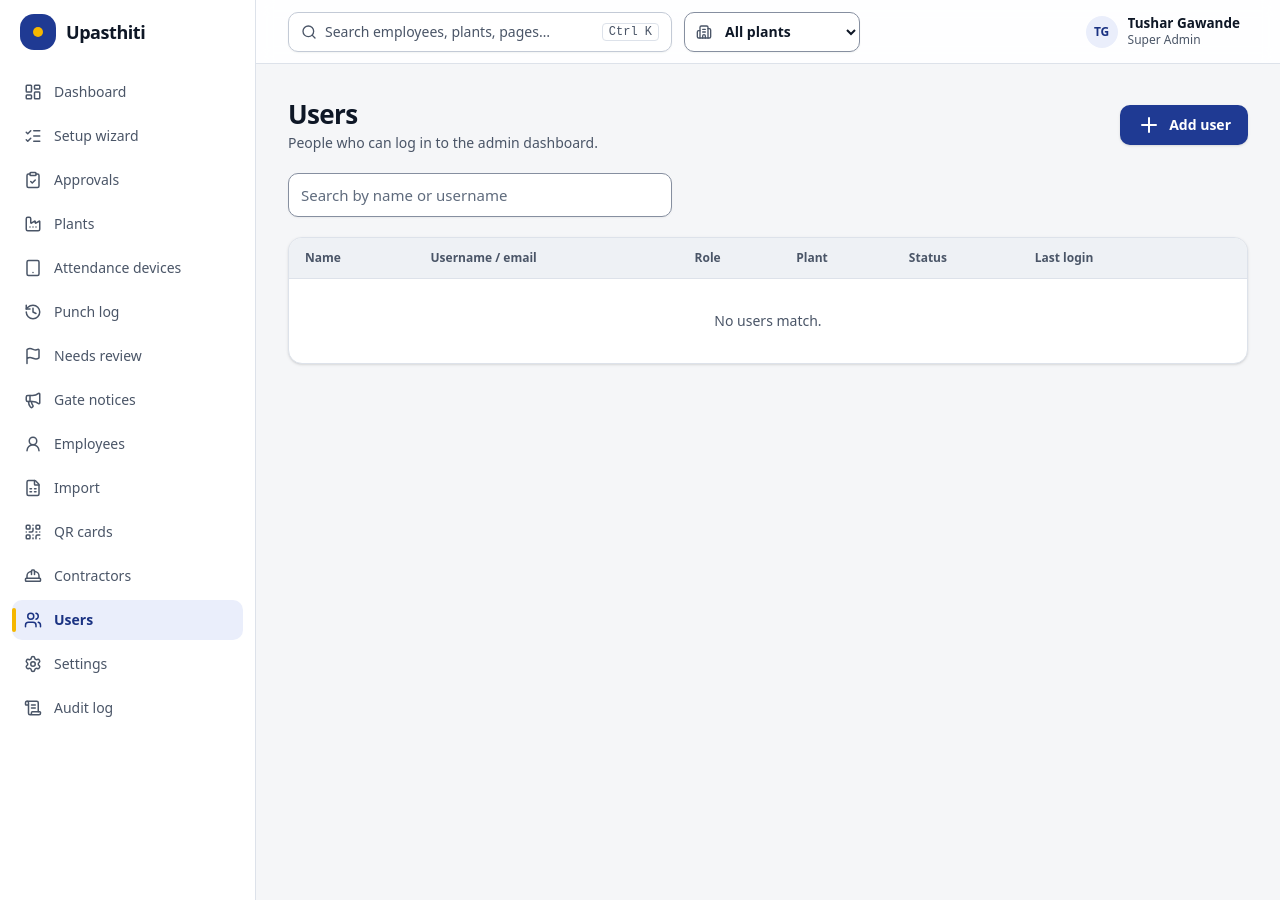
Test: users page › creates a user and shows the temporary password once
Click the button "Add user" at {"x": 1184, "y": 125}, box [1120, 105, 1248, 145]
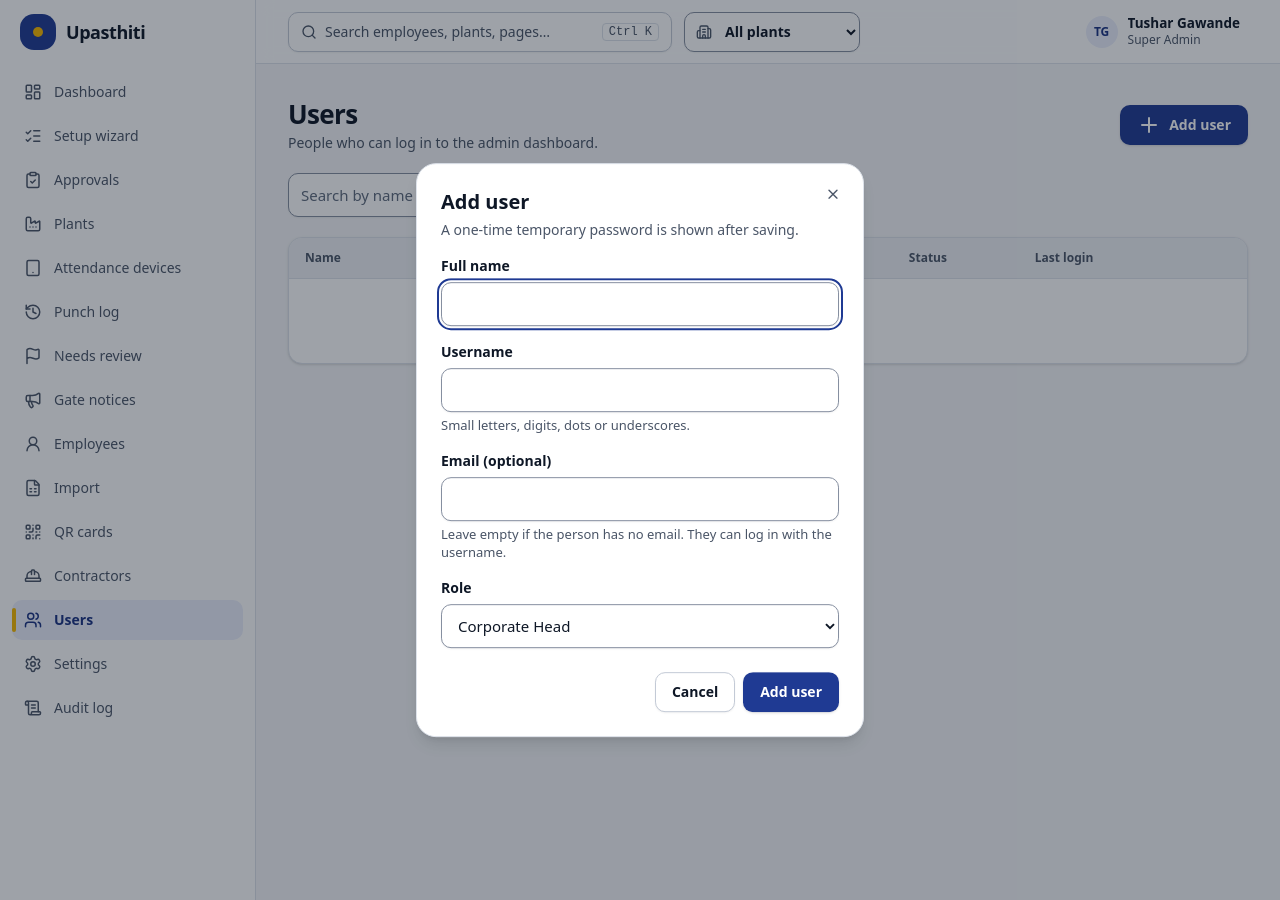
Type "Asha Rao" into the field labelled "Full name" at {"x": 640, "y": 304}, box [441, 282, 839, 326]
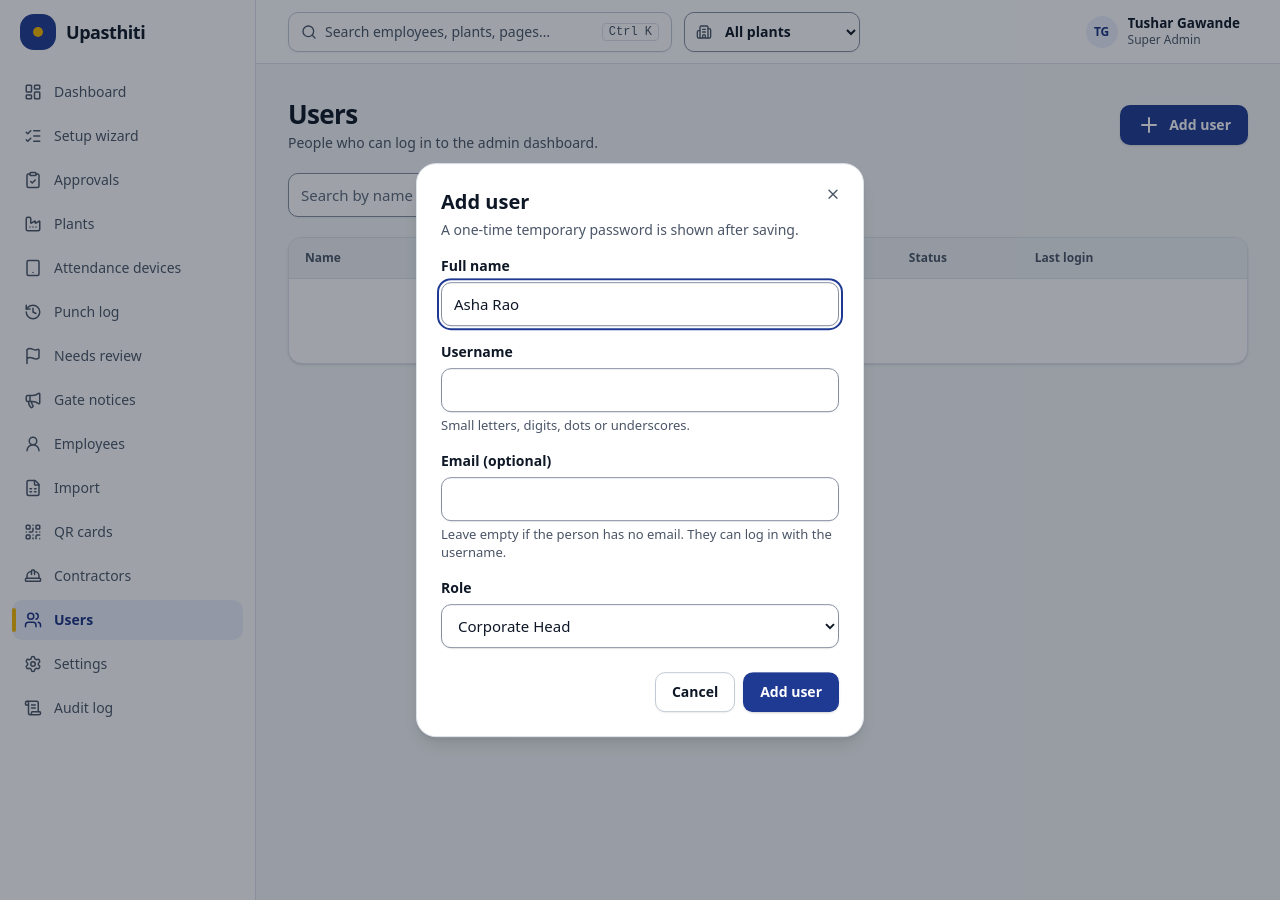
Type "Asha.Rao" into the field labelled "Username" at {"x": 640, "y": 390}, box [441, 368, 839, 412]
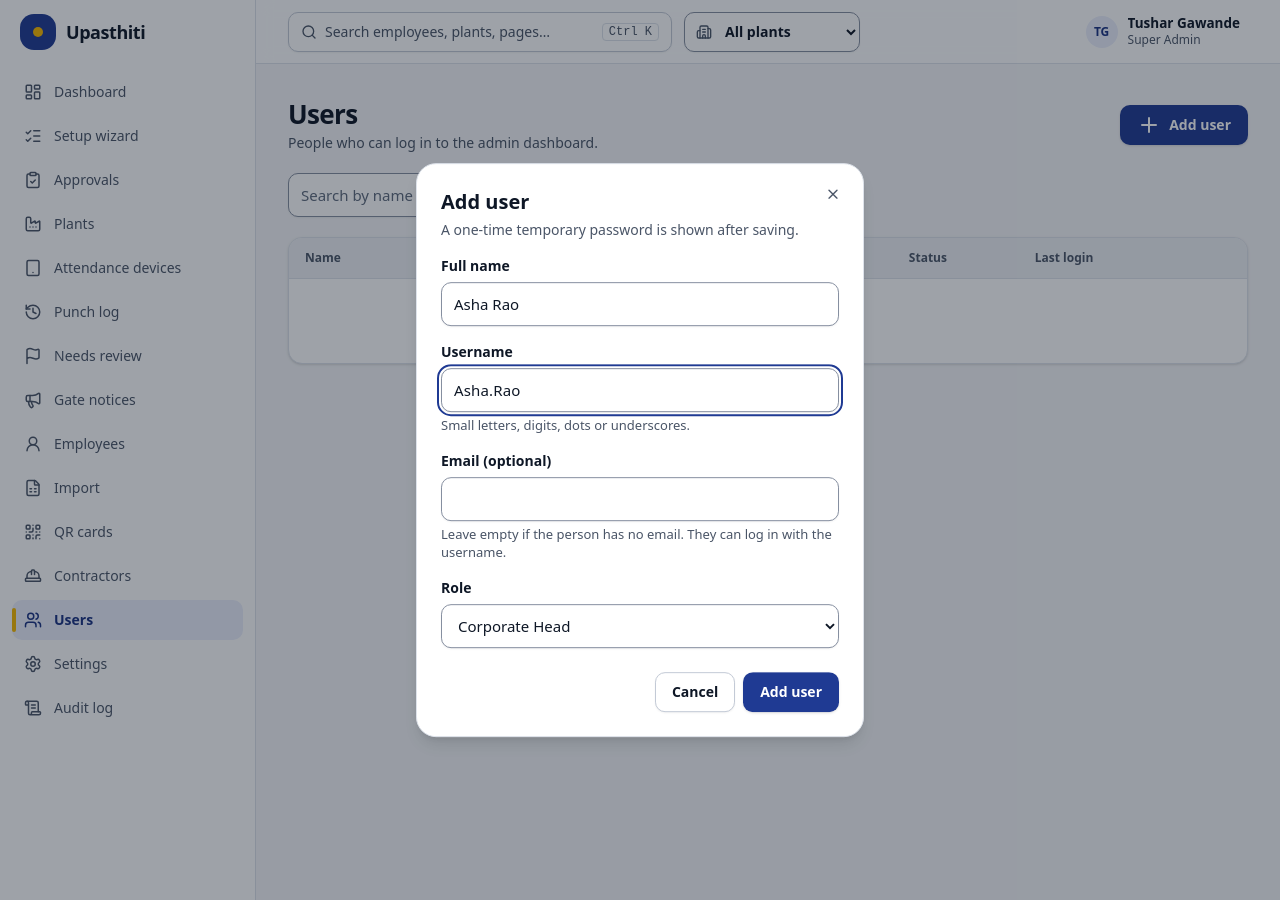
Click the button "Add user" at {"x": 791, "y": 692}, box [743, 672, 839, 712]
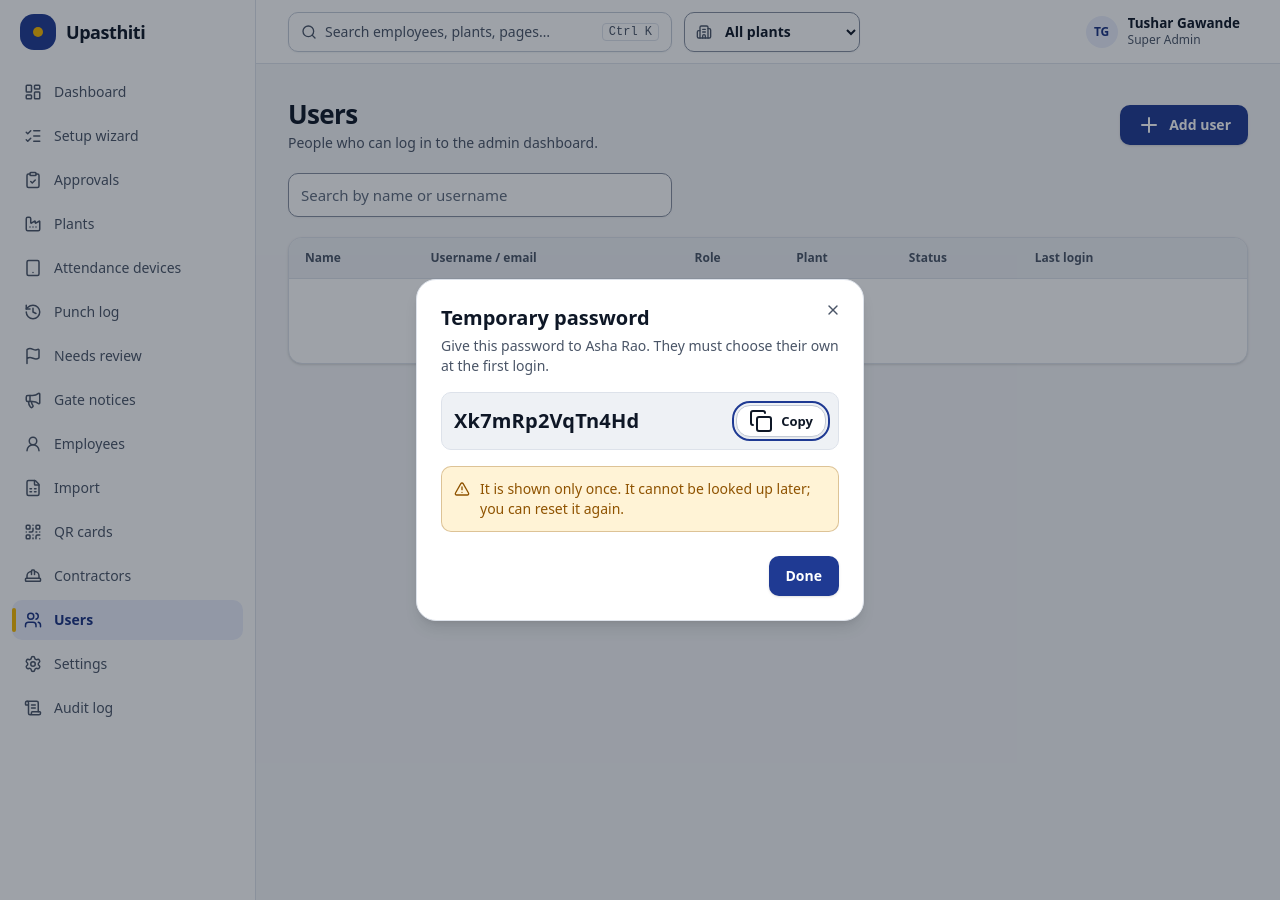
Now the text "Xk7mRp2VqTn4Hd" is shown, box [454, 407, 639, 434]
Now the text "shown only once" is shown, box [480, 479, 810, 518]
